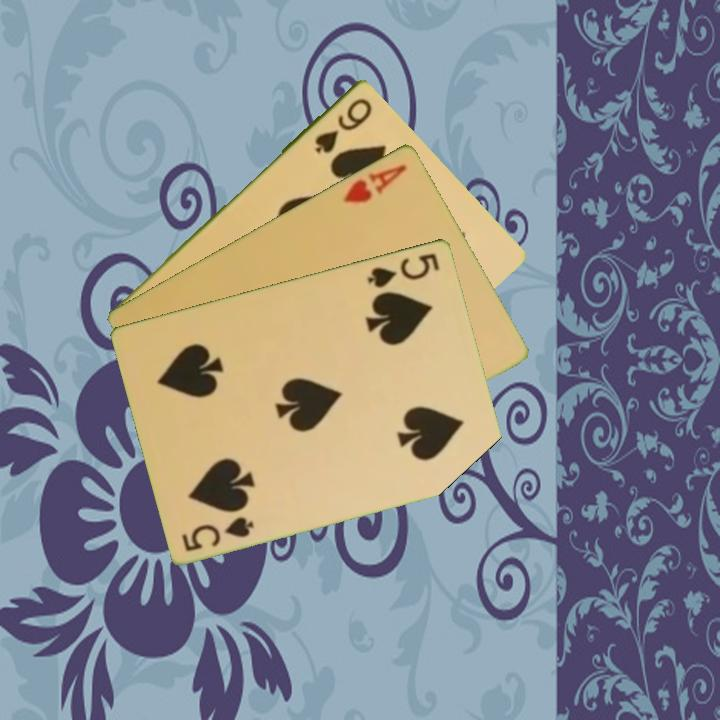5s: (178, 512, 257, 554), (364, 249, 443, 290)
9s: (311, 93, 375, 156)
Ah: (340, 160, 410, 206)
